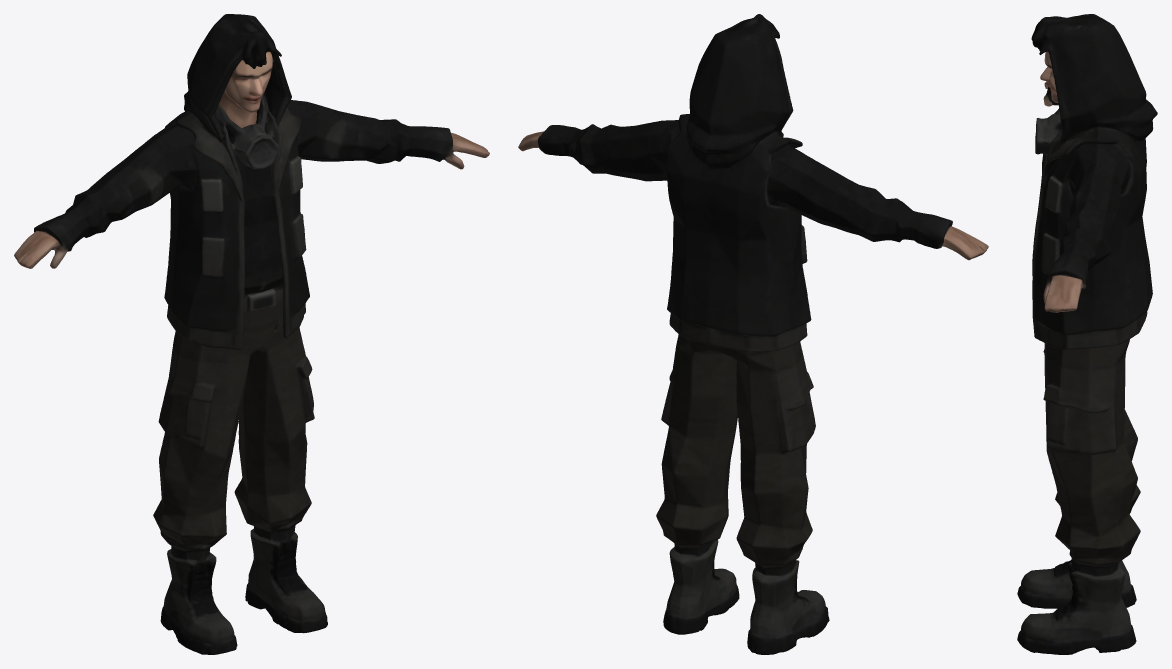
The model's file is sample_2026-07-29T160343.702.glb.
The picture shows the model from 3 angles, left to right: view 1: azimuth 30°, elevation 25°; view 2: azimuth 150°, elevation 25°; view 3: azimuth 270°, elevation 25°; orthographic projection.
Visible parts, largest first — view 1: world; view 2: world; view 3: world.
Part boxes in pixels (x1=…): world: x1=14, y1=14, x2=489, y2=654; world: x1=518, y1=14, x2=988, y2=654; world: x1=1017, y1=14, x2=1157, y2=654.
Bounding box in the file's own units: 0.8104 × 1 × 0.2113.
Materials: 1 (1 with a texture image).
